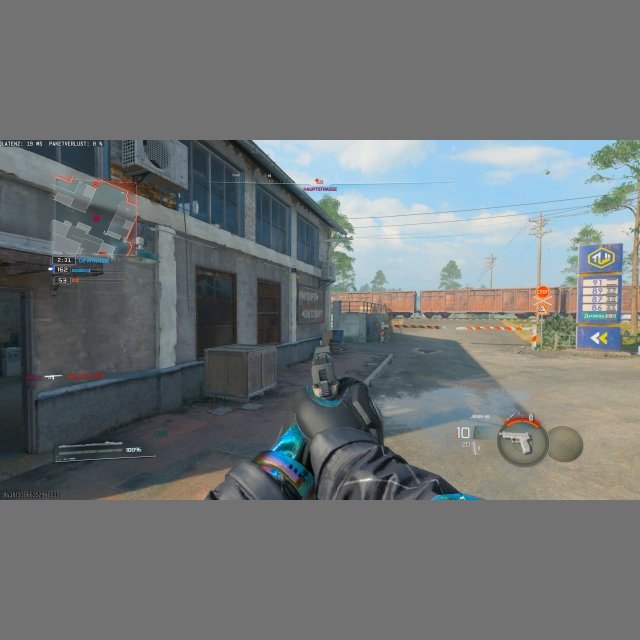player: (377, 322, 386, 344)
